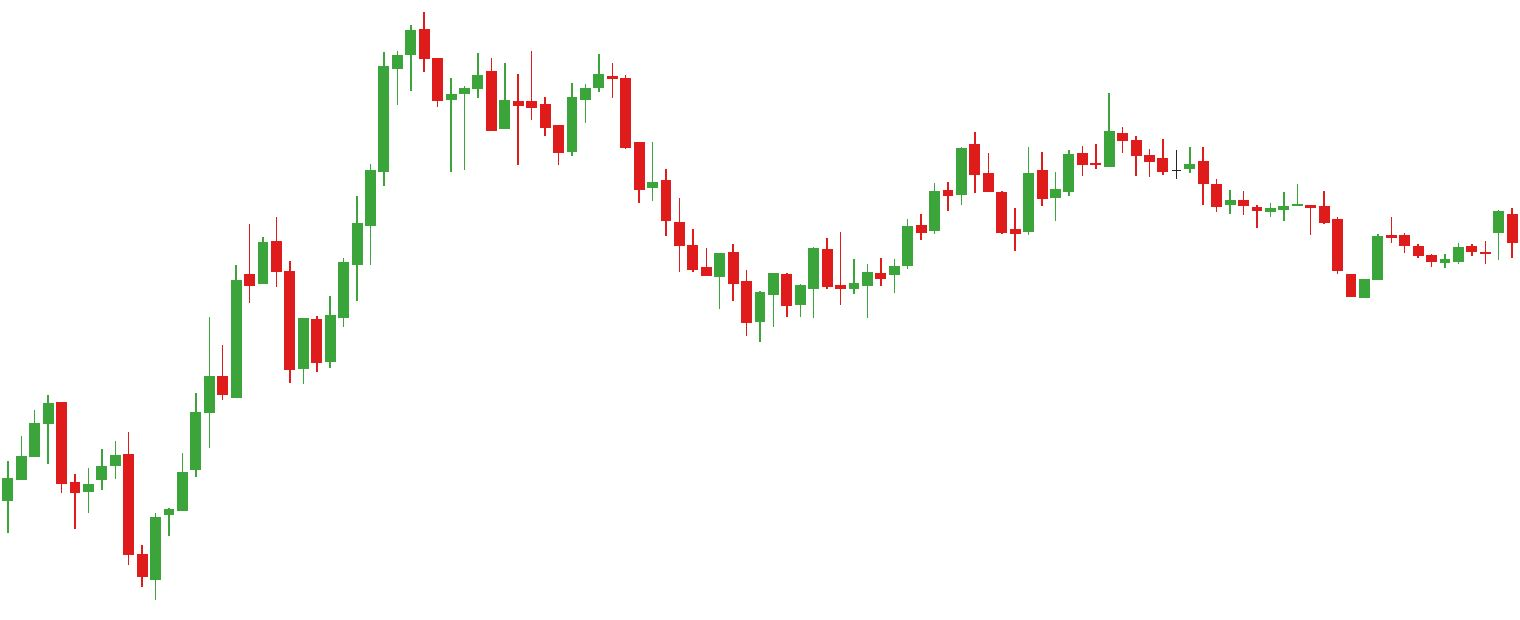buy: (70, 449, 164, 607)
